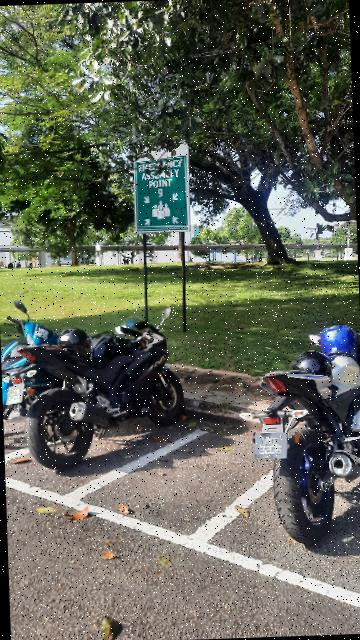License_Plate: (254, 431, 293, 463), (35, 324, 60, 345), (8, 386, 27, 408)
motorcycle: (4, 285, 191, 471), (241, 315, 360, 553)
